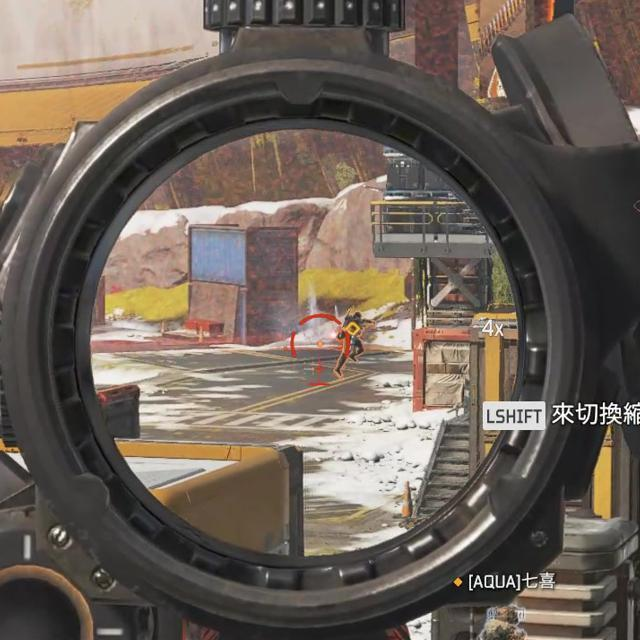avatar: (334, 310, 367, 378)
object: (344, 320, 362, 337)
